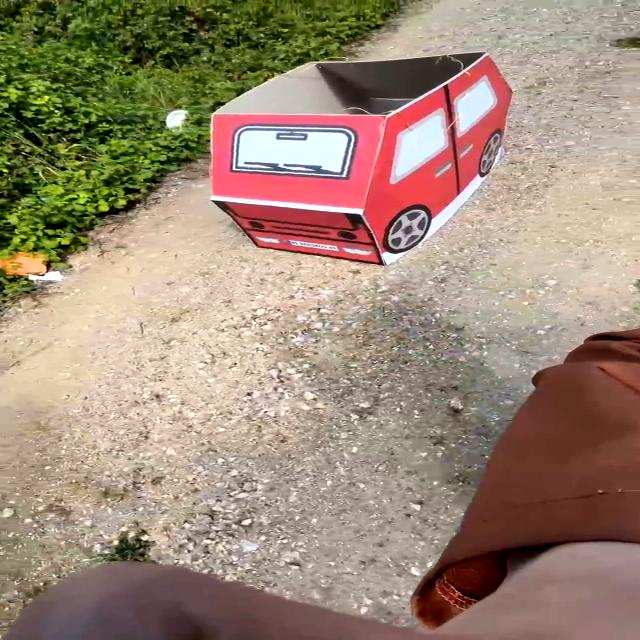red_car: (169, 38, 544, 298)
